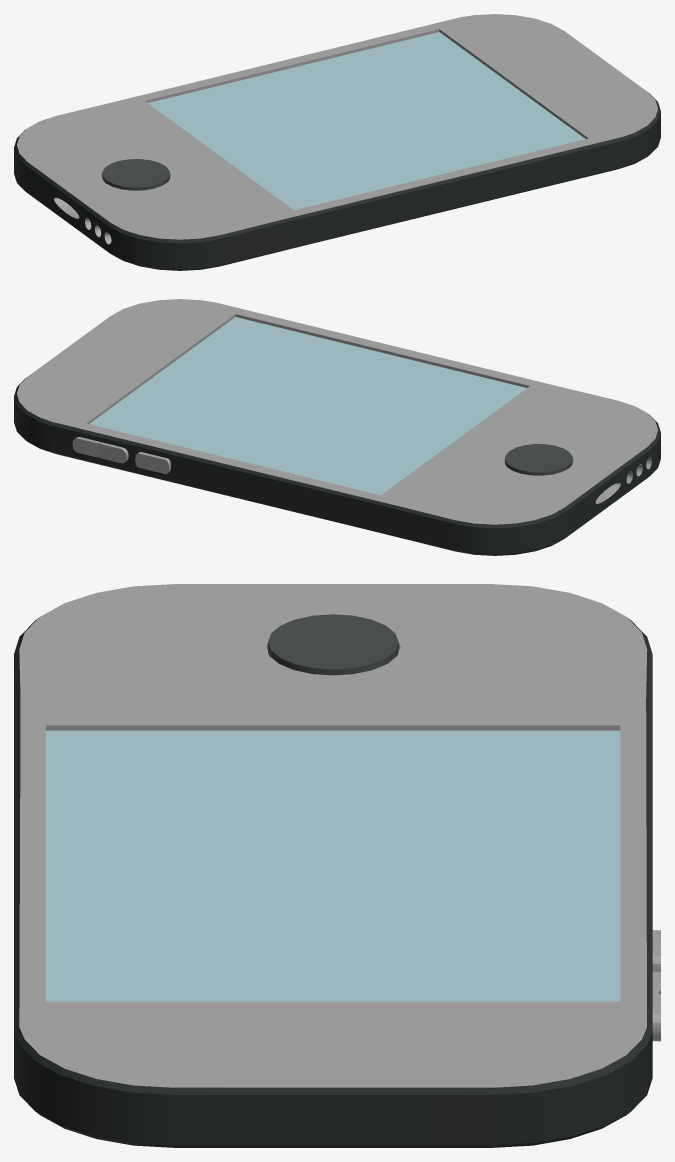
The model's file is Proxy_phone (1).fbx.
The picture shows the model from 3 angles, top to bottom: view 1: azimuth 30°, elevation 25°; view 2: azimuth 150°, elevation 25°; view 3: azimuth 270°, elevation 25°; orthographic projection. The views are drawn at different scales.
Parts seen in each view (by area): view 1: Iphone_01; view 2: Iphone_01; view 3: Iphone_01.
Boxes of the visible parts, box(x1,y1,x2,y2) form: Iphone_01: box(14, 14, 660, 270); Iphone_01: box(14, 299, 660, 555); Iphone_01: box(14, 584, 660, 1147).
Bounding box in the file's own units: 0.5481 × 0.0328 × 0.2949.
